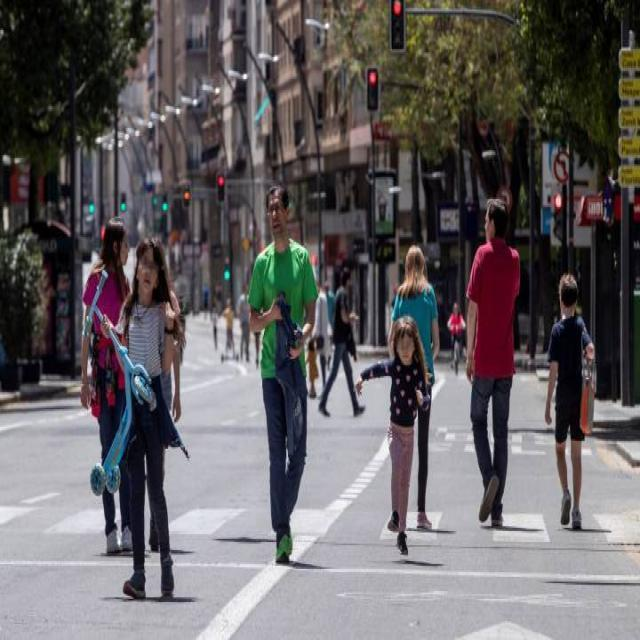person: (233, 171, 330, 575), (98, 235, 194, 614), (454, 180, 532, 538), (348, 314, 438, 570), (80, 206, 138, 564), (383, 228, 445, 536), (545, 272, 605, 538)
